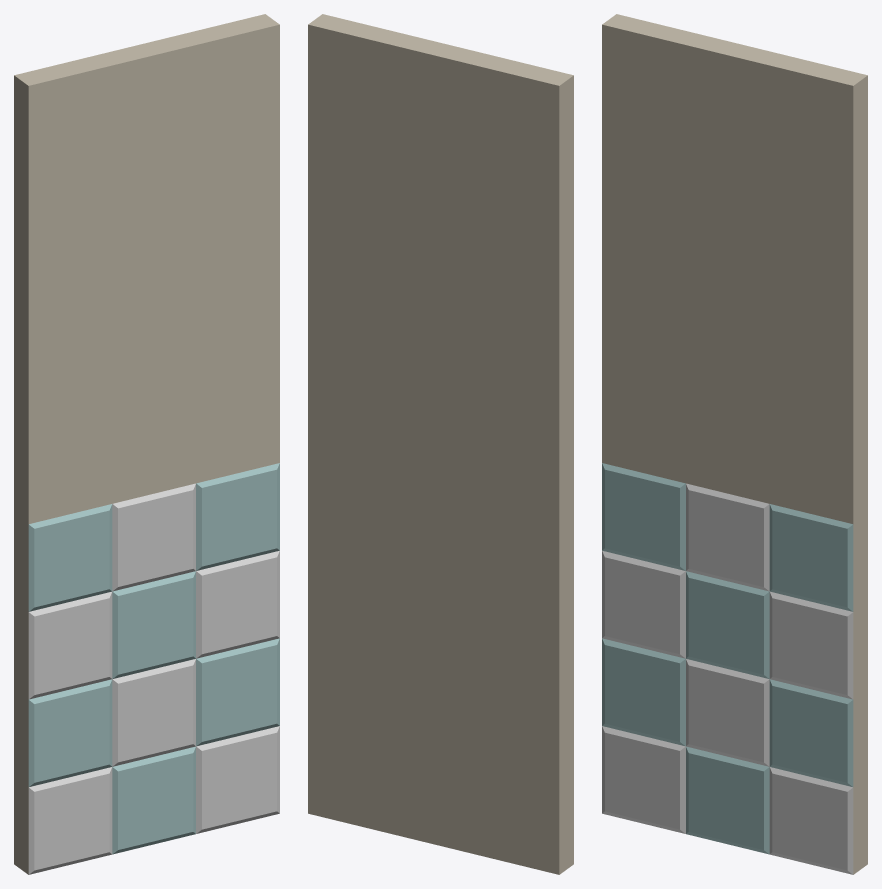
Rendered from Mesh_WallHalfCeramic_H1.fbx.
3 views of the same model, side by side, from view 1: azimuth 30°, elevation 25°; view 2: azimuth 150°, elevation 25°; view 3: azimuth 330°, elevation 25° (orthographic).
Parts seen in each view (by area): view 1: Mesh_WallHalfCeramic_H1; view 2: Mesh_WallHalfCeramic_H1; view 3: Mesh_WallHalfCeramic_H1.
Boxes of the visible parts, box(x1,y1,x2,y2) form: Mesh_WallHalfCeramic_H1: box(14, 14, 279, 874); Mesh_WallHalfCeramic_H1: box(308, 14, 573, 874); Mesh_WallHalfCeramic_H1: box(602, 14, 867, 874).
Bounding box in the file's own units: 1 × 3 × 0.1104.
